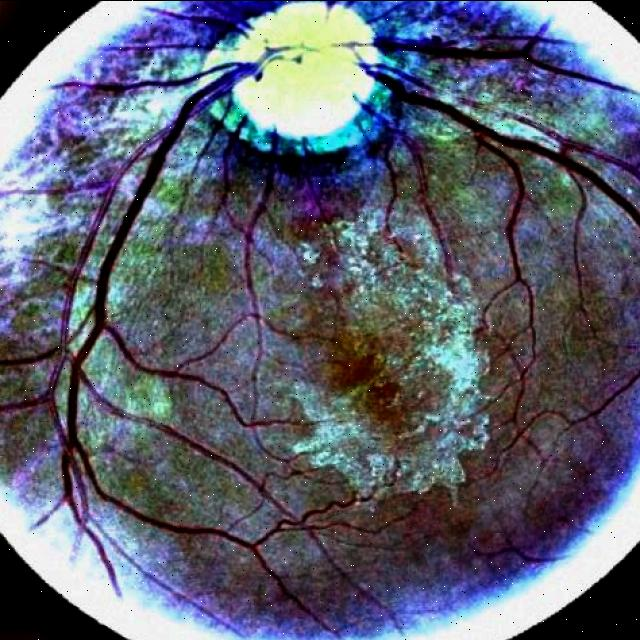Macula: (311, 301, 435, 452)
Nerves: (52, 87, 201, 497), (399, 88, 617, 196), (411, 37, 610, 90)
Optic Disk: (214, 2, 411, 162)
